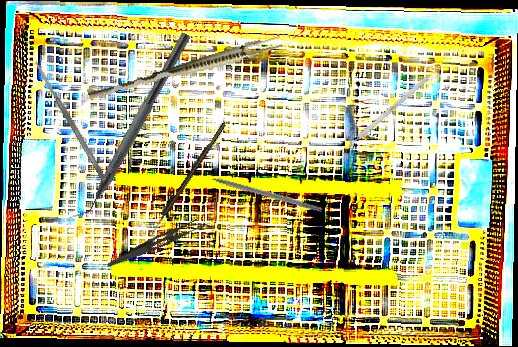Chopper: (66, 24, 191, 231)
Dressing Forceps: (105, 210, 210, 279)
Hook Surgical: (151, 122, 227, 231), (341, 75, 429, 154), (195, 170, 324, 213)
Spatula Surgical: (32, 58, 108, 183)
Tissue Forceps: (86, 31, 284, 107)
